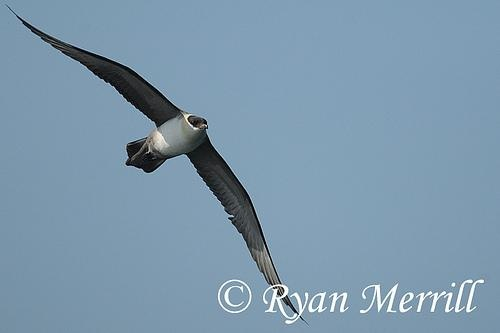bird: (8, 5, 304, 322)
